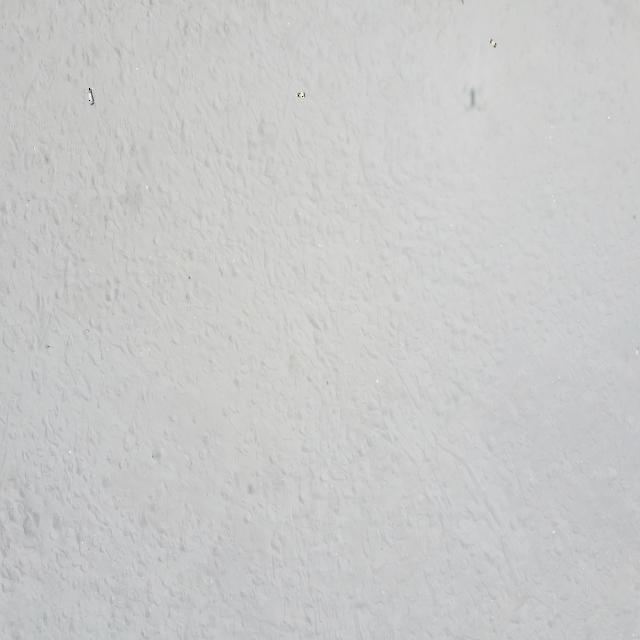glass: (86, 88, 95, 105), (488, 38, 497, 49), (296, 92, 306, 98)
